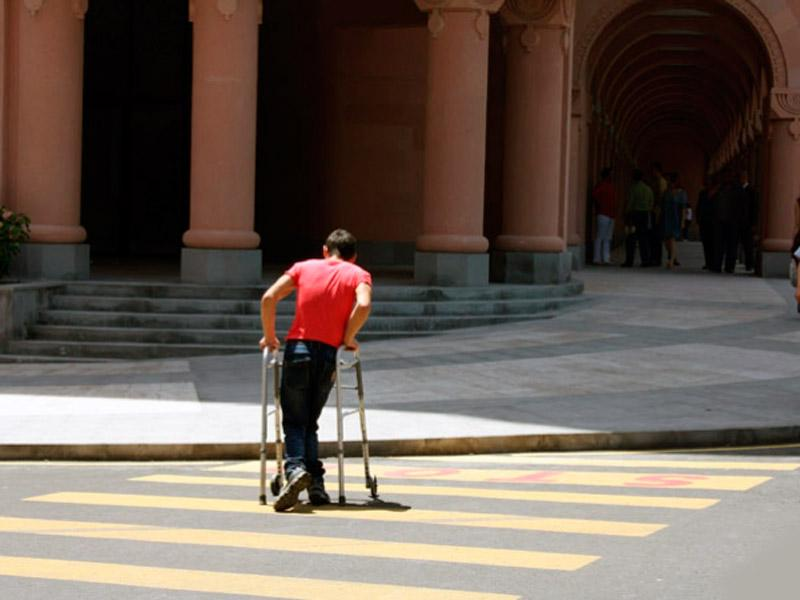walking_frame: (258, 229, 378, 512)
